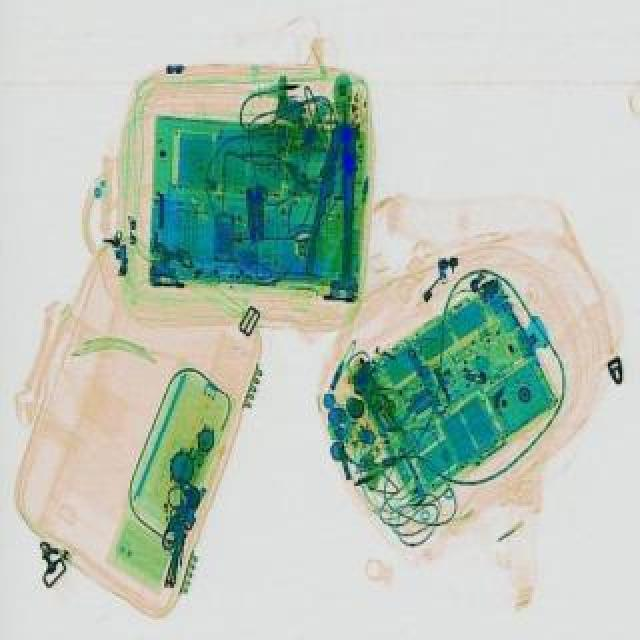wrench: (304, 120, 368, 276)
